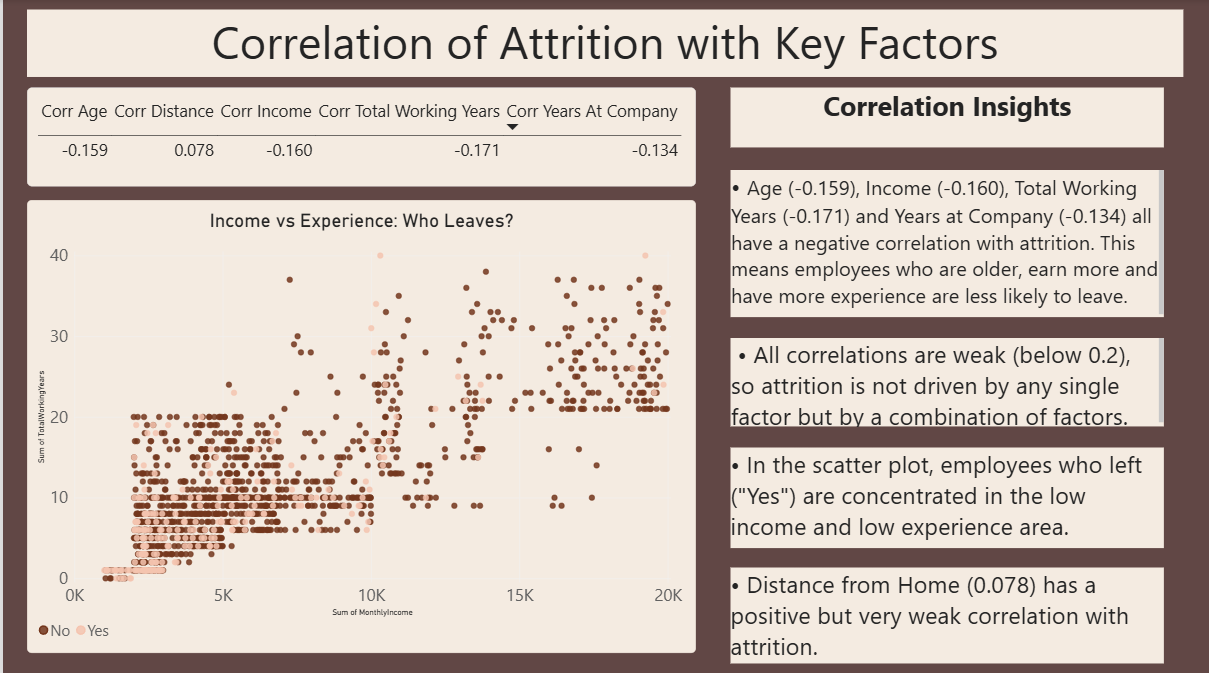

Layout of this report page (visuals, bound fields, positions):
{"tool":"powerbi","page":{"name":"Correlation ","canvas":[1920,1080],"ordinal":2},"visuals":[{"type":"scatterChart","title":"Income vs Experience: Who Leaves?","fields":{"Category":["HR.EmployeeNumber"],"Series":["HR.Attrition"],"X":["Sum(HR.MonthlyIncome)"],"Y":["Sum(HR.TotalWorkingYears)"]},"box":[38.2,319.7,1064.1,720.5],"z":0},{"type":"tableEx","fields":{"Values":["HR.Corr Age","HR.Corr Distance","HR.Corr Income","HR.Corr Total Working Years","HR.Corr Years At Company"]},"box":[38.2,140.8,1064.1,157.5],"z":1000},{"type":"textbox","box":[38.2,16.7,1839.5,107.4],"z":2000},{"type":"textbox","box":[1157.2,272,689.5,233.8],"z":3000},{"type":"textbox","box":[1157.2,904.3,689.5,152.7],"z":4000},{"type":"textbox","box":[1157.2,713.4,689.5,159.9],"z":5000},{"type":"textbox","box":[1157.2,539.2,689.5,140.8],"z":6000},{"type":"textbox","box":[1157.2,140.8,689.5,95.4],"z":6001}]}

Visuals, with their boxes in screenshot pixels (x1, y1, x2, y2), scaled from the page's 1920x1080 canvas onto the 1209x673 screenshot:
"Income vs Experience: Who Leaves?" scatterChart: left=24, top=199, right=694, bottom=648
tableEx - HR.Corr Age x HR.Corr Distance: left=24, top=88, right=694, bottom=186
textbox: left=24, top=10, right=1182, bottom=77
textbox: left=729, top=169, right=1163, bottom=315
textbox: left=729, top=564, right=1163, bottom=659
textbox: left=729, top=445, right=1163, bottom=544
textbox: left=729, top=336, right=1163, bottom=424
textbox: left=729, top=88, right=1163, bottom=147
